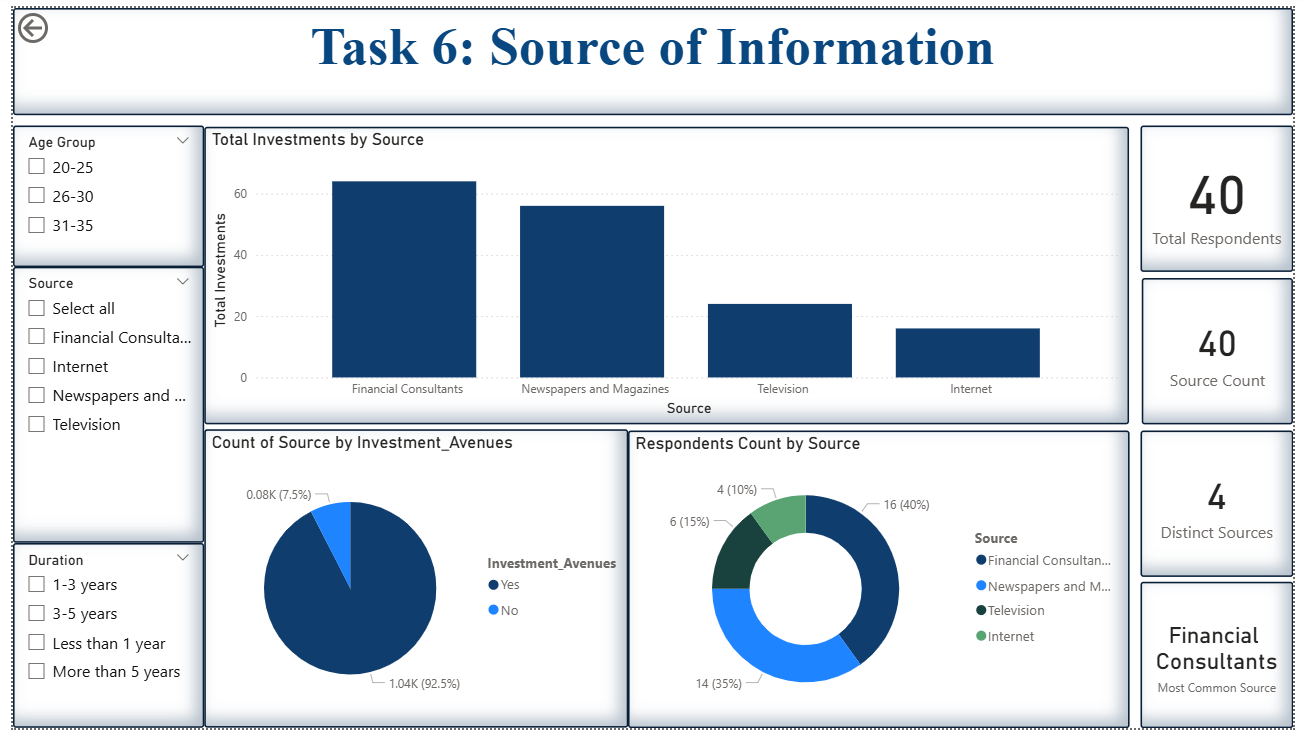

This screenshot's page, from the dashboard's own definition file:
{"tool":"powerbi","page":{"name":"Task 6","canvas":[1280,720],"ordinal":5},"visuals":[{"type":"textbox","box":[0,0,1280,107.5],"z":0},{"type":"slicer","fields":{"Values":["Cognifyz_Dataset.Age Group"]},"box":[0,117.1,191.4,141.4],"z":1000},{"type":"clusteredColumnChart","fields":{"Category":["Cognifyz_Dataset.Source"],"Y":["Cognifyz_Dataset.Total Investments"]},"box":[191.2,118.8,925,297.5],"z":3000},{"type":"card","fields":{"Values":["Cognifyz_Dataset.Total Respondents"]},"box":[1127.5,117.4,152.9,146.7],"z":4000},{"type":"card","fields":{"Values":["Cognifyz_Dataset.Distinct Sources"]},"box":[1127.5,422.5,152.5,146.2],"z":5000},{"type":"card","fields":{"Values":["Cognifyz_Dataset.Source Count"]},"box":[1128.8,270,151.2,146.2],"z":6000},{"type":"slicer","fields":{"Values":["Cognifyz_Dataset.Source"]},"box":[0,258.8,191.2,276.2],"z":7000},{"type":"pieChart","fields":{"Category":["Cognifyz_Dataset.Investment_Avenues"],"Y":["CountNonNull(Cognifyz_Dataset.Source)"]},"box":[191.2,421.2,423.8,298.8],"z":8000},{"type":"card","fields":{"Values":["Cognifyz_Dataset.Most Common Source"]},"box":[1127.5,573.8,152.5,146.2],"z":9000},{"type":"actionButton","box":[0,0,100,40],"z":10000},{"type":"slicer","fields":{"Values":["Cognifyz_Dataset.Duration"]},"box":[0,535,191.2,185],"z":11000},{"type":"donutChart","fields":{"Category":["Cognifyz_Dataset.Source"],"Y":["Cognifyz_Dataset.Respondents Count"]},"box":[615,422.5,501.2,297.5],"z":12000}]}

Visuals, with their boxes in screenshot pixels (x1, y1, x2, y2), scaled from the page's 1280x720 canvas onto the 1306x738 screenshot:
textbox: {"x1": 0, "y1": 0, "x2": 1305, "y2": 110}
slicer - Cognifyz_Dataset.Age Group: {"x1": 0, "y1": 120, "x2": 195, "y2": 265}
clusteredColumnChart - Cognifyz_Dataset.Source x Cognifyz_Dataset.Total Investments: {"x1": 195, "y1": 122, "x2": 1139, "y2": 427}
card - Cognifyz_Dataset.Total Respondents: {"x1": 1150, "y1": 120, "x2": 1305, "y2": 271}
card - Cognifyz_Dataset.Distinct Sources: {"x1": 1150, "y1": 433, "x2": 1305, "y2": 583}
card - Cognifyz_Dataset.Source Count: {"x1": 1152, "y1": 277, "x2": 1305, "y2": 427}
slicer - Cognifyz_Dataset.Source: {"x1": 0, "y1": 265, "x2": 195, "y2": 548}
pieChart - Cognifyz_Dataset.Investment_Avenues x CountNonNull(Cognifyz_Dataset.Source): {"x1": 195, "y1": 432, "x2": 627, "y2": 737}
card - Cognifyz_Dataset.Most Common Source: {"x1": 1150, "y1": 588, "x2": 1305, "y2": 737}
actionButton: {"x1": 0, "y1": 0, "x2": 102, "y2": 41}
slicer - Cognifyz_Dataset.Duration: {"x1": 0, "y1": 548, "x2": 195, "y2": 737}
donutChart - Cognifyz_Dataset.Source x Cognifyz_Dataset.Respondents Count: {"x1": 627, "y1": 433, "x2": 1139, "y2": 737}
